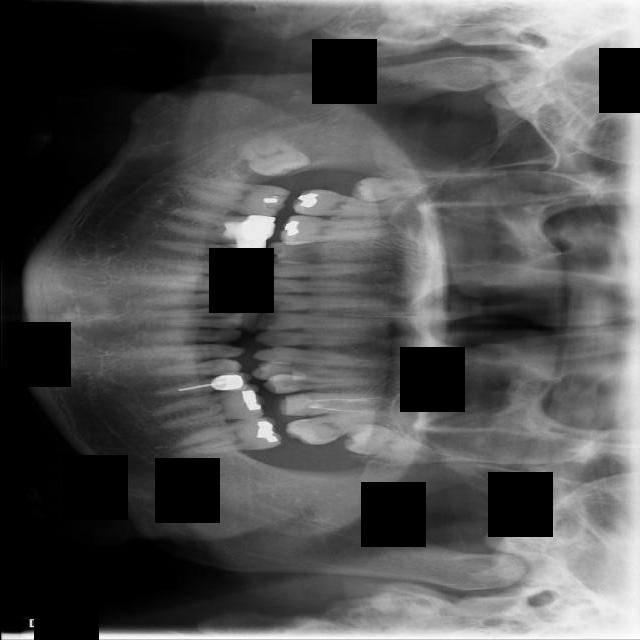3M ESPE Implant: (348, 166, 453, 204)
52: (220, 208, 276, 257), (214, 380, 269, 427), (231, 409, 283, 457), (235, 179, 290, 224), (278, 213, 328, 250), (291, 188, 341, 217), (274, 391, 322, 417), (249, 361, 301, 382), (210, 372, 253, 392)
73: (312, 391, 395, 419), (148, 379, 211, 399), (70, 588, 84, 594)
BioHorizons Implant: (284, 402, 401, 451)
BioLife Implant: (341, 417, 448, 473)
Blue Sky Bio Implant: (169, 413, 283, 459)
Caries: (291, 189, 410, 219)
Implant: (178, 177, 291, 221)
Keystone Dental Implant: (231, 129, 313, 182)
